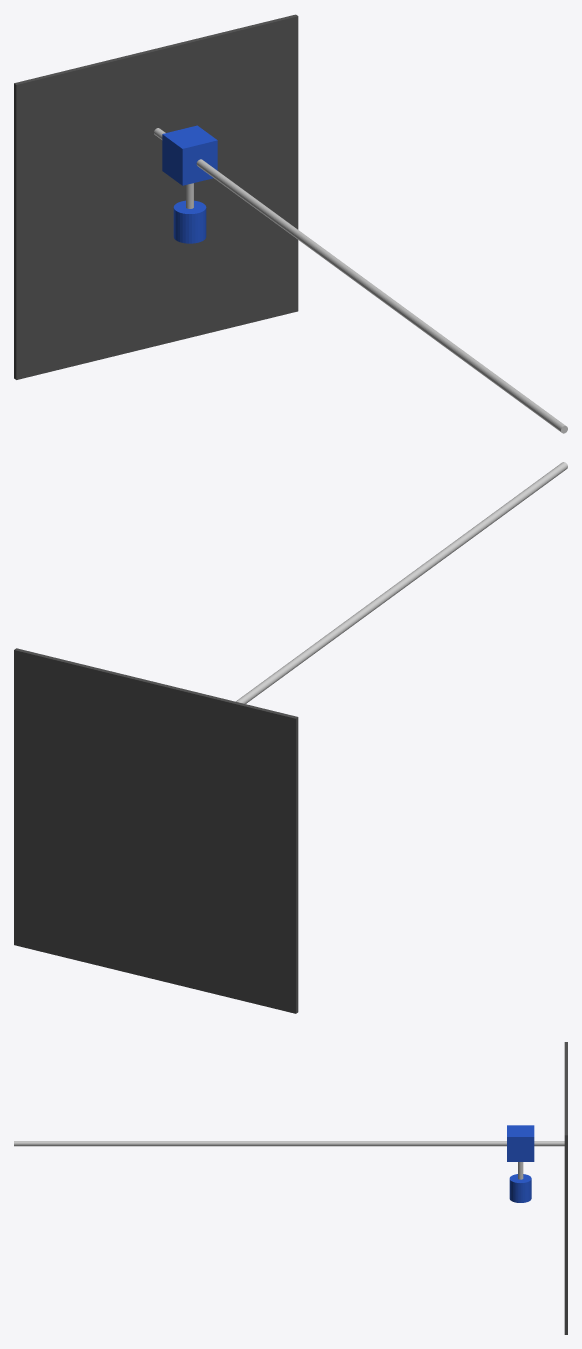
File: pendulum.obj
3 renders of one model, top to bottom at view 1: azimuth 30°, elevation 25°; view 2: azimuth 150°, elevation 25°; view 3: azimuth 270°, elevation 25°, orthographic. The views are drawn at different scales.
Visible parts, largest first — view 1: b_gripper_base_001_, b_gripper_vertical_rod_001_, b_gripper_connector_block_001_, b_pendulum_rotation_body_001_; view 2: b_gripper_base_001_, b_gripper_vertical_rod_001_; view 3: b_gripper_vertical_rod_001_, b_gripper_base_001_, b_gripper_connector_block_001_, b_pendulum_rotation_body_001_.
Part boxes in pixels (x1=…): b_gripper_base_001_: x1=14, y1=14, x2=298, y2=379; b_gripper_vertical_rod_001_: x1=154, y1=128, x2=567, y2=433; b_gripper_connector_block_001_: x1=162, y1=125, x2=217, y2=185; b_pendulum_rotation_body_001_: x1=173, y1=200, x2=206, y2=243; b_gripper_base_001_: x1=14, y1=648, x2=298, y2=1013; b_gripper_vertical_rod_001_: x1=236, y1=462, x2=567, y2=703; b_gripper_vertical_rod_001_: x1=14, y1=1141, x2=564, y2=1146; b_gripper_base_001_: x1=564, y1=1042, x2=567, y2=1334; b_gripper_connector_block_001_: x1=507, y1=1125, x2=534, y2=1161; b_pendulum_rotation_body_001_: x1=509, y1=1174, x2=531, y2=1202.
Size of the model in its own units: 200 by 200 by 503.
